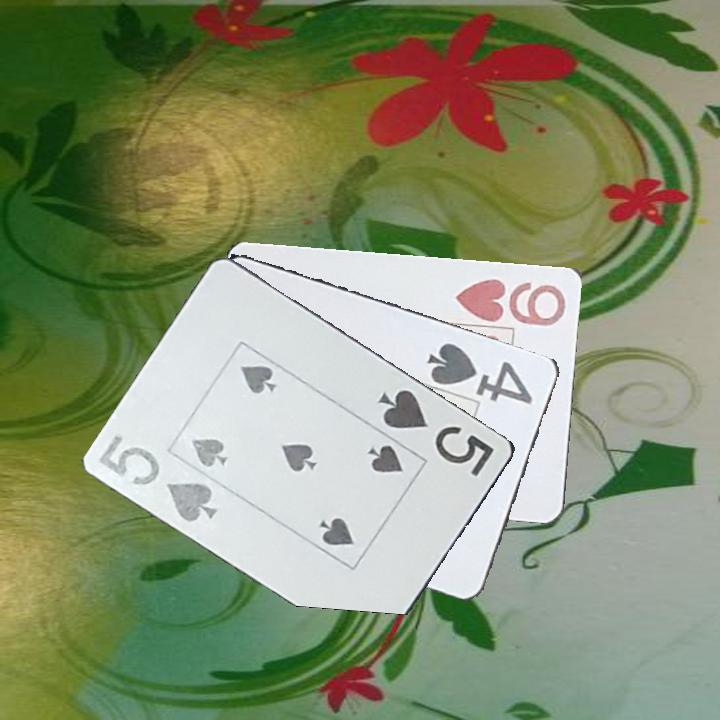4s: (424, 338, 536, 407)
5s: (95, 432, 222, 526), (375, 385, 498, 480)
9h: (452, 275, 569, 328)
